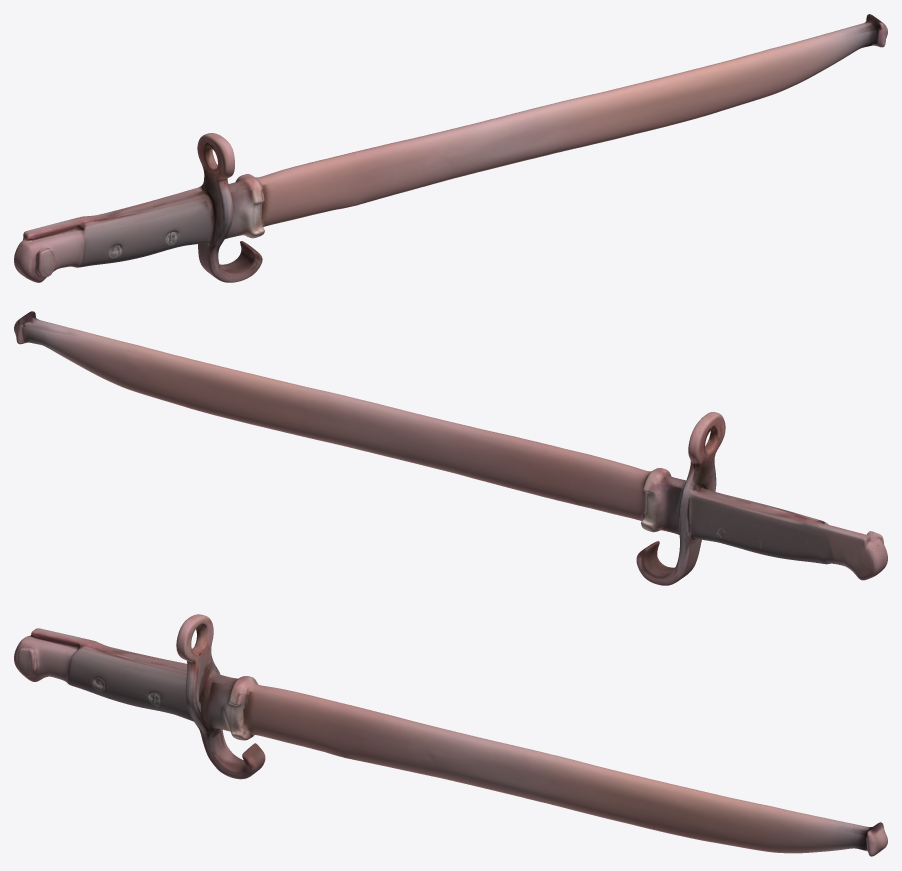
3 renders of one model, top to bottom at view 1: azimuth 30°, elevation 25°; view 2: azimuth 150°, elevation 25°; view 3: azimuth 330°, elevation 25°, orthographic.
Visible parts, largest first — view 1: material; view 2: material; view 3: material.
Part boxes in pixels (x1=…): material: x1=14, y1=14, x2=887, y2=282; material: x1=14, y1=311, x2=887, y2=585; material: x1=14, y1=614, x2=887, y2=856.
Size of the model in its own units: 1.2 by 0.2115 by 0.0851.
1 material, 1 textured.
